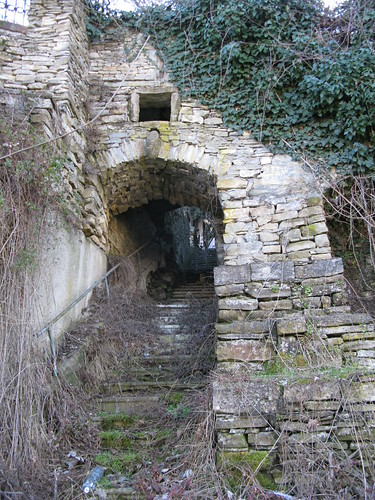building: (1, 1, 372, 500)
vegetation: (143, 1, 375, 150)
